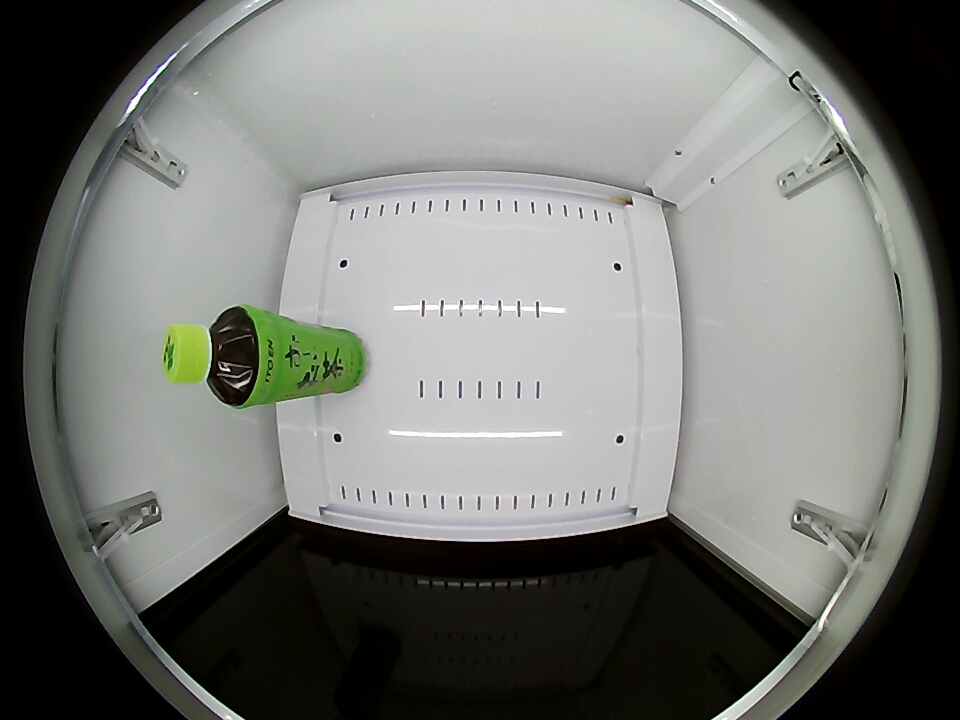yitengyuan: (163, 305, 270, 408)
